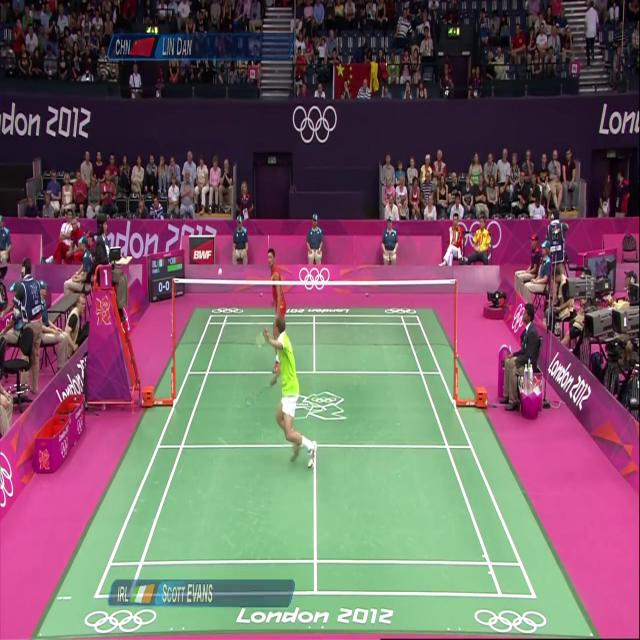Net: (172, 278, 461, 347)
Player1: (248, 300, 322, 476)
Player2: (258, 243, 294, 381)
Shuttlecock: (216, 263, 226, 277)
